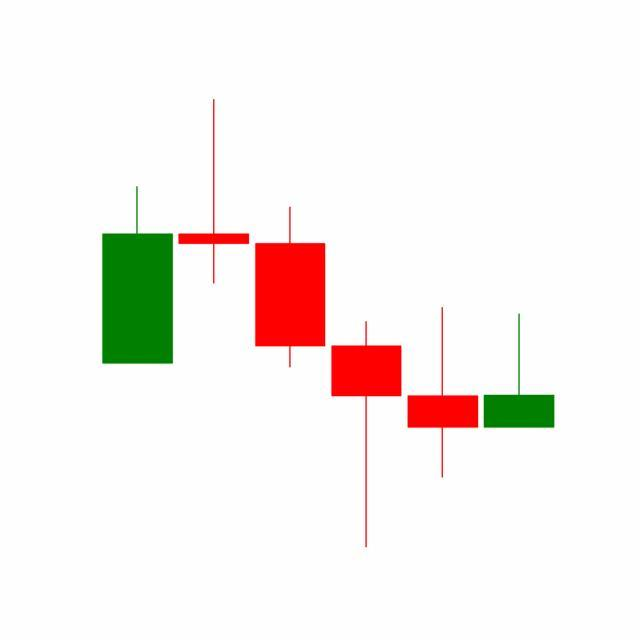Spinning Top: (404, 306, 482, 481)
